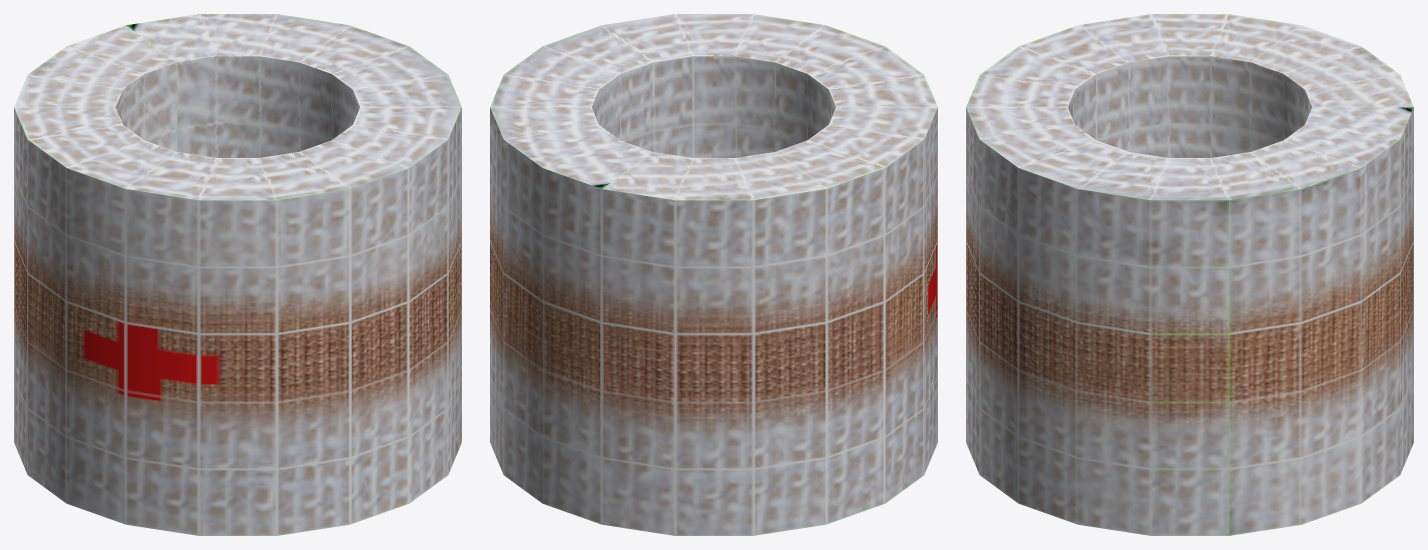
The model's file is bandage100.fbx.
The picture shows the model from 3 angles, left to right: view 1: azimuth 30°, elevation 25°; view 2: azimuth 150°, elevation 25°; view 3: azimuth 270°, elevation 25°; orthographic projection.
Parts seen in each view (by area): view 1: Tube001; view 2: Tube001; view 3: Tube001.
Boxes of the visible parts, box(x1,y1,x2,y2) form: Tube001: box(14, 14, 461, 535); Tube001: box(490, 14, 937, 535); Tube001: box(966, 14, 1413, 535).
Bounding box in the file's own units: 15.66 × 13.15 × 15.9.
1 material, 1 textured.
